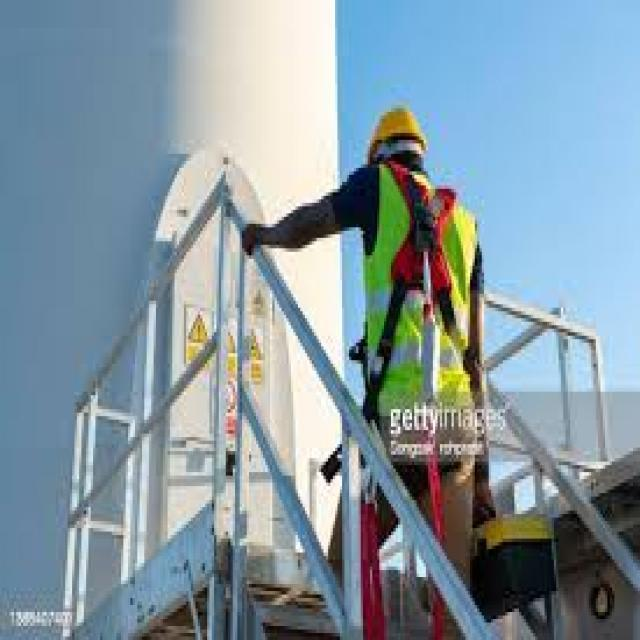belt: (355, 143, 480, 640)
